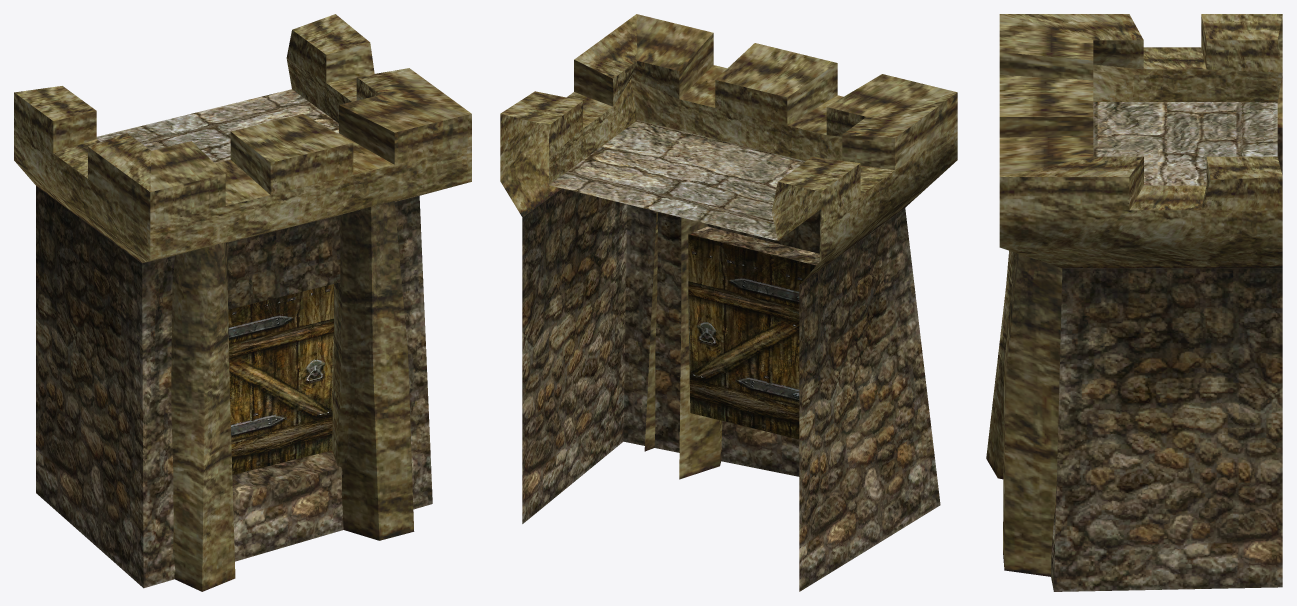
Rendered from hrz14.glb.
3 renders of one model, left to right at view 1: azimuth 30°, elevation 25°; view 2: azimuth 150°, elevation 25°; view 3: azimuth 270°, elevation 25°, orthographic. The views are drawn at different scales.
Visible parts, largest first — view 1: hrz14-col; view 2: hrz14-col; view 3: hrz14-col.
Part boxes in pixels (x1,y1,x2,y2): hrz14-col: (14,14,471,591); hrz14-col: (500,14,957,591); hrz14-col: (986,14,1282,591).
Size of the model in its own units: 4.38 by 5.28 by 3.37.
Materials: 4 (4 with a texture image).
